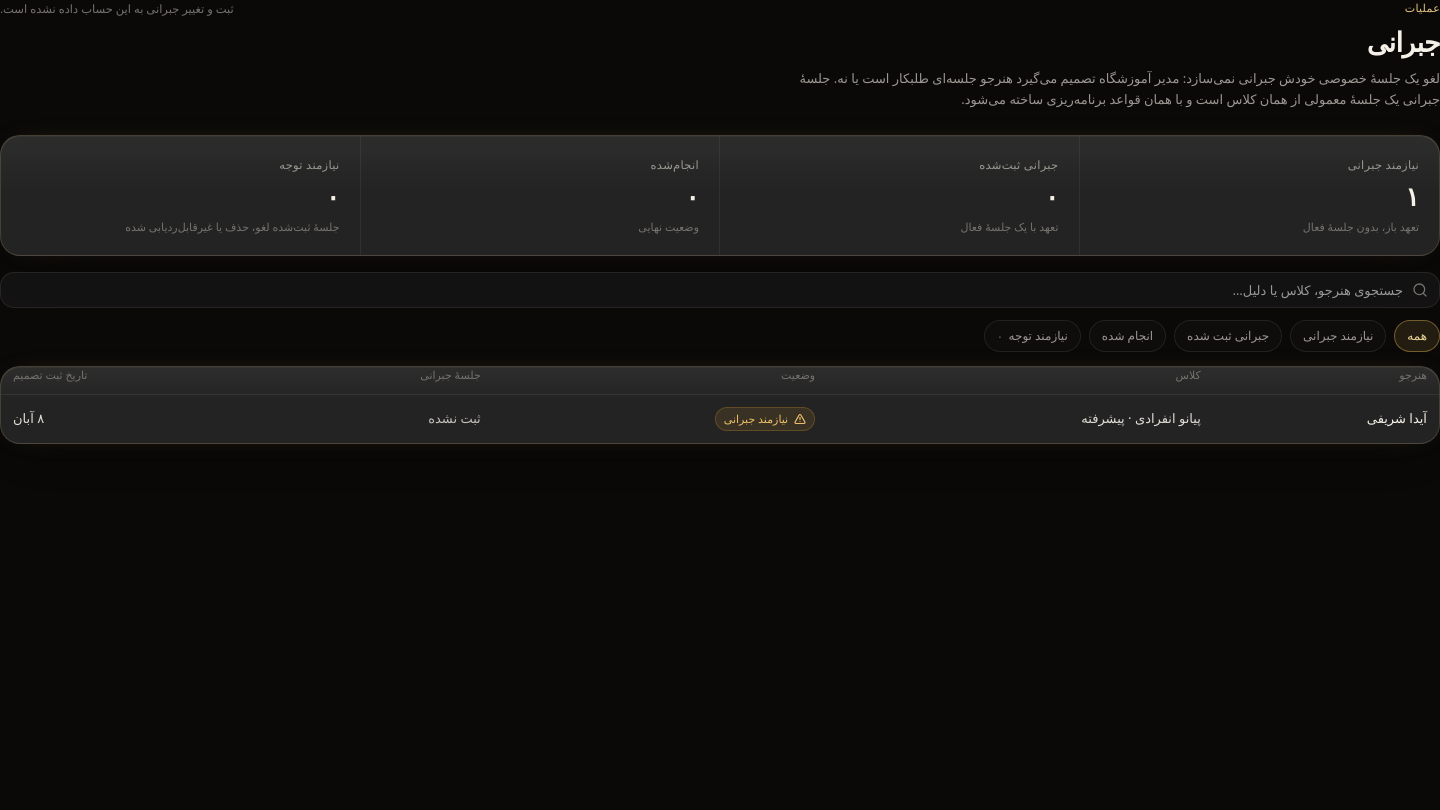
Test case: a teacher may read, and may not write › shows the state, offers no write control, and says why
The width and height of the screenshot is (1440, 810).
Click the text "آیدا شریفی": (1397, 418) [1367,409,1427,427]
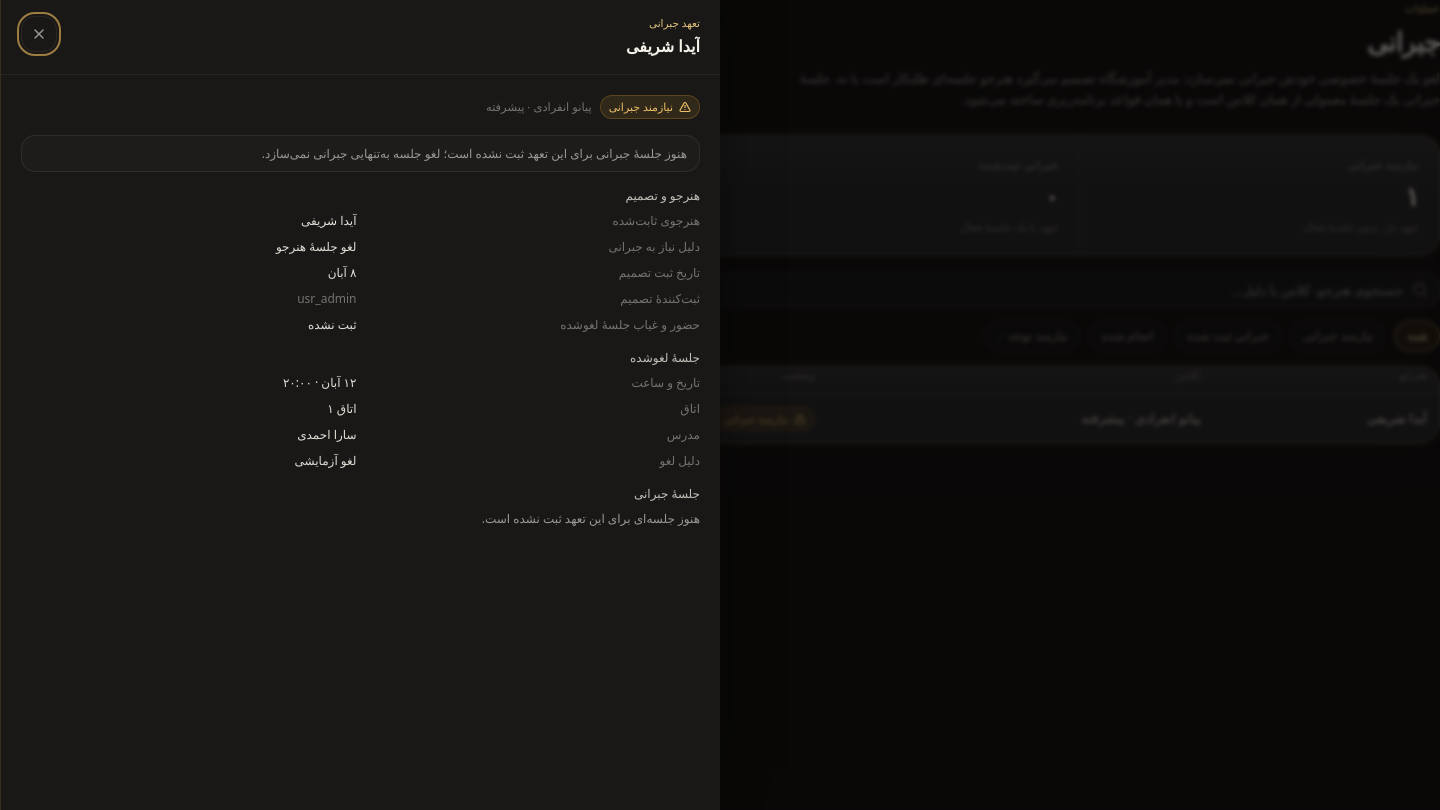
expect the dialog is shown: met
